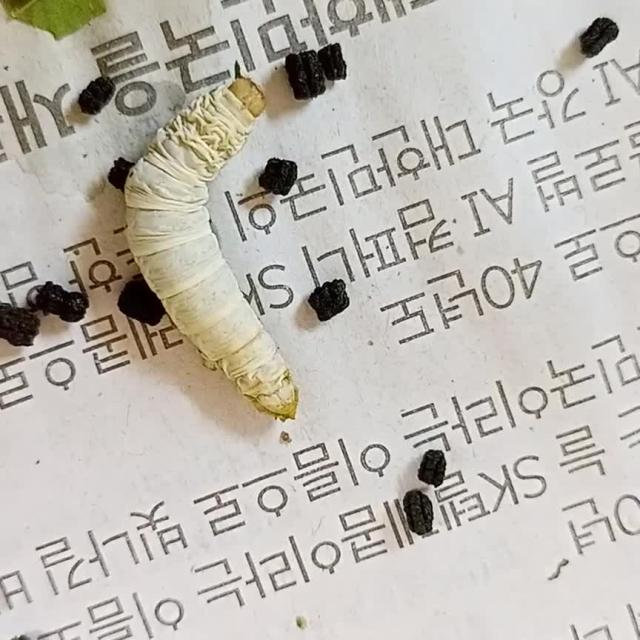Grasserie: (98, 46, 411, 442)
